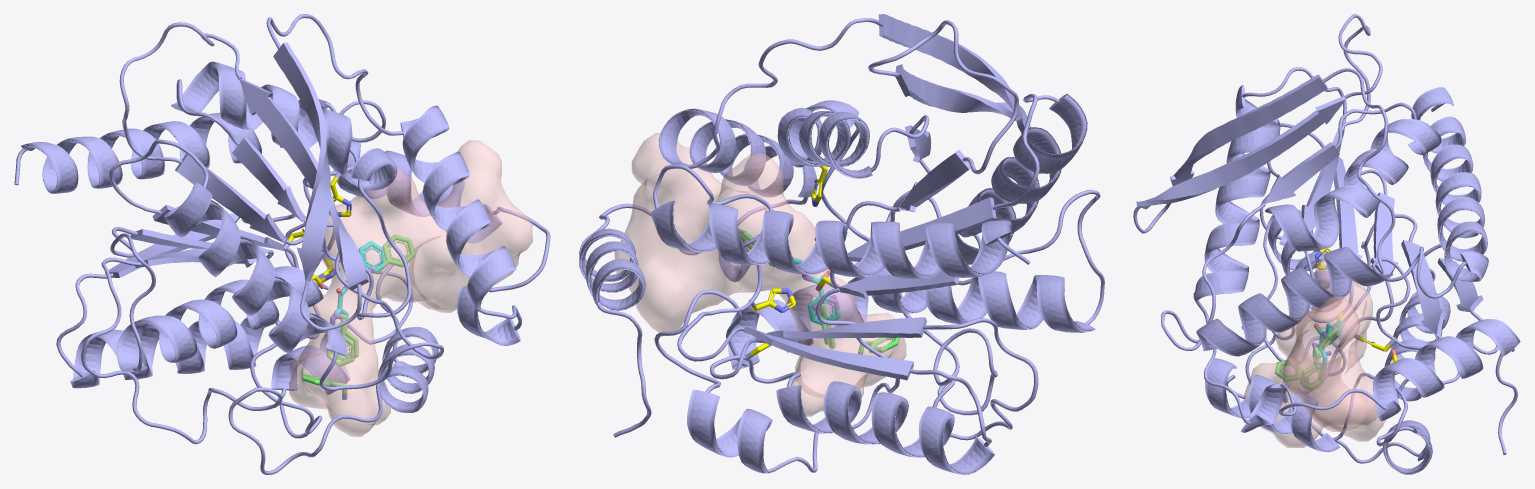
File: SPL_overview_transp.gltf
3 renders of one model, left to right at view 1: azimuth 30°, elevation 25°; view 2: azimuth 150°, elevation 25°; view 3: azimuth 270°, elevation 25°, orthographic. The views are drawn at different scales.
Parts seen in each view (by area): view 1: node-geom52, node-geom53, node-geom185, node-geom54; view 2: node-geom53, node-geom52, node-geom185, node-geom54; view 3: node-geom52, node-geom53, node-geom185, node-geom54.
Boxes of the visible parts, <box> form: node-geom52: <box>119,14,550,390</box>; node-geom53: <box>56,139,438,474</box>; node-geom185: <box>289,140,532,436</box>; node-geom54: <box>14,99,385,278</box>; node-geom53: <box>654,94,1104,474</box>; node-geom52: <box>579,14,1085,437</box>; node-geom185: <box>614,133,906,416</box>; node-geom54: <box>650,164,1030,380</box>; node-geom52: <box>1133,14,1520,454</box>; node-geom53: <box>1195,67,1460,474</box>; node-geom185: <box>1243,259,1385,447</box>; node-geom54: <box>1371,87,1498,354</box>.
Bounding box in the file's own units: 51.71 × 47.56 × 42.2.
